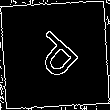P_SE: (24, 24, 86, 86)
